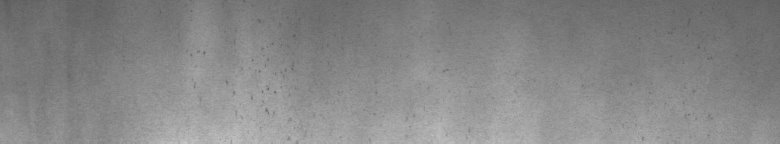ib: (190, 50, 294, 114)
